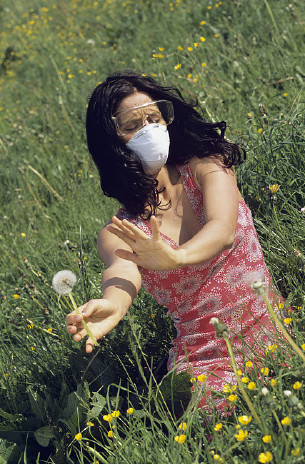face_mask: (116, 94, 169, 173)
